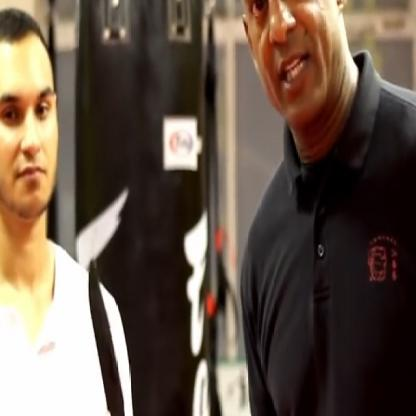knife: (79, 241, 155, 415)
